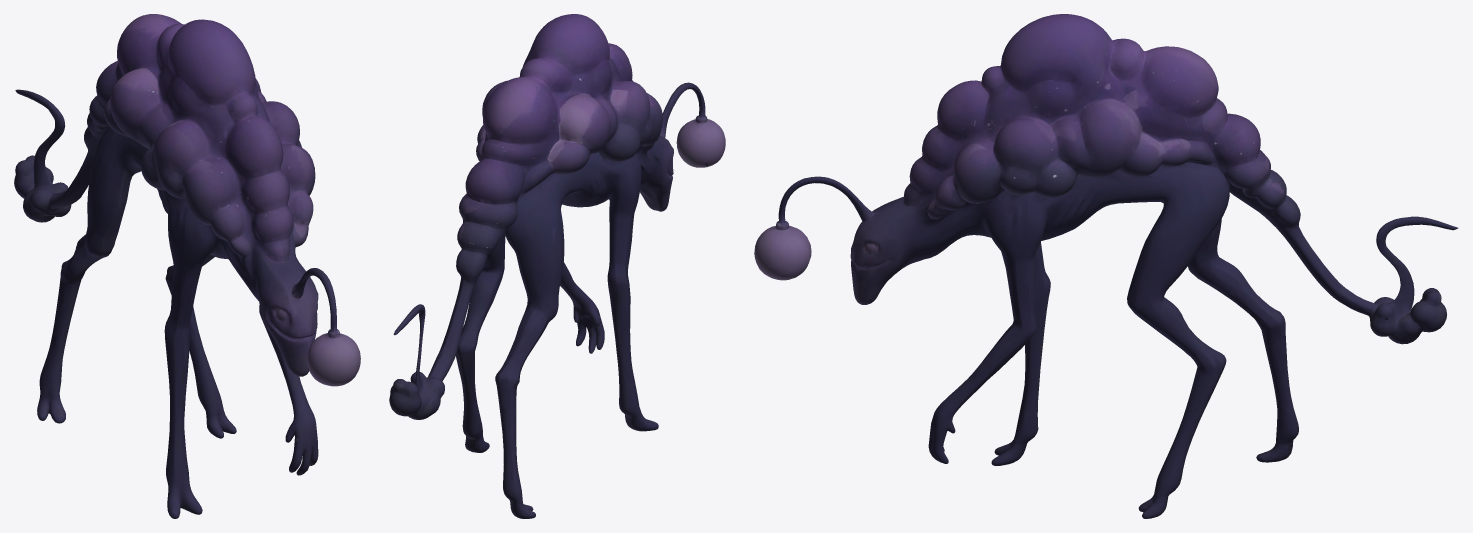
The picture shows the model from 3 angles, left to right: view 1: azimuth 30°, elevation 25°; view 2: azimuth 150°, elevation 25°; view 3: azimuth 270°, elevation 25°; orthographic projection. The views are drawn at different scales.
Parts seen in each view (by area): view 1: Mesh_0; view 2: Mesh_0; view 3: Mesh_0.
Part boxes in pixels (box(x1,y1,x2,y2)): Mesh_0: box(14, 14, 360, 518); Mesh_0: box(389, 14, 725, 518); Mesh_0: box(754, 14, 1458, 518).
Size of the model in its own units: 0.461 by 1.42 by 1.93.
Materials: 1 (1 with a texture image).
